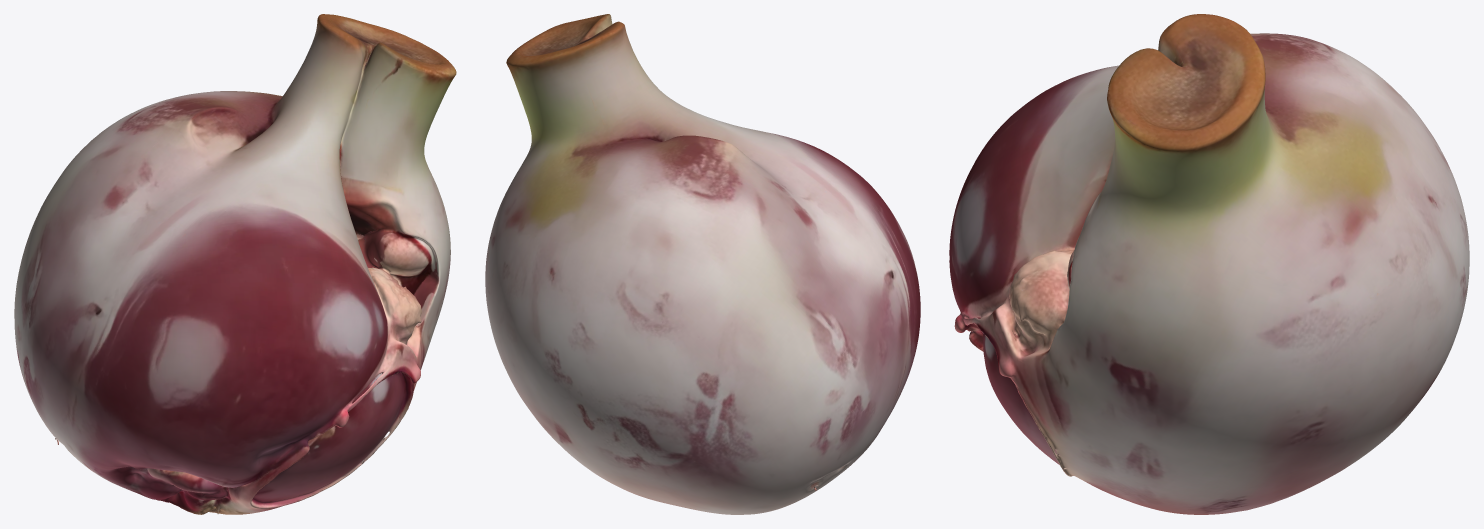
File: vet_v2_path_mammary-tumor.glb
The picture shows the model from 3 angles, left to right: view 1: azimuth 30°, elevation 25°; view 2: azimuth 150°, elevation 25°; view 3: azimuth 270°, elevation 25°; orthographic projection. The views are drawn at different scales.
Visible parts, largest first — view 1: model; view 2: model; view 3: model.
Part boxes in pixels (x1=…): model: x1=14, y1=14, x2=456, y2=514; model: x1=485, y1=14, x2=920, y2=514; model: x1=949, y1=14, x2=1469, y2=514.
Size of the model in its own units: 1.71 by 1.9 by 1.66.
1 material, 1 textured.
